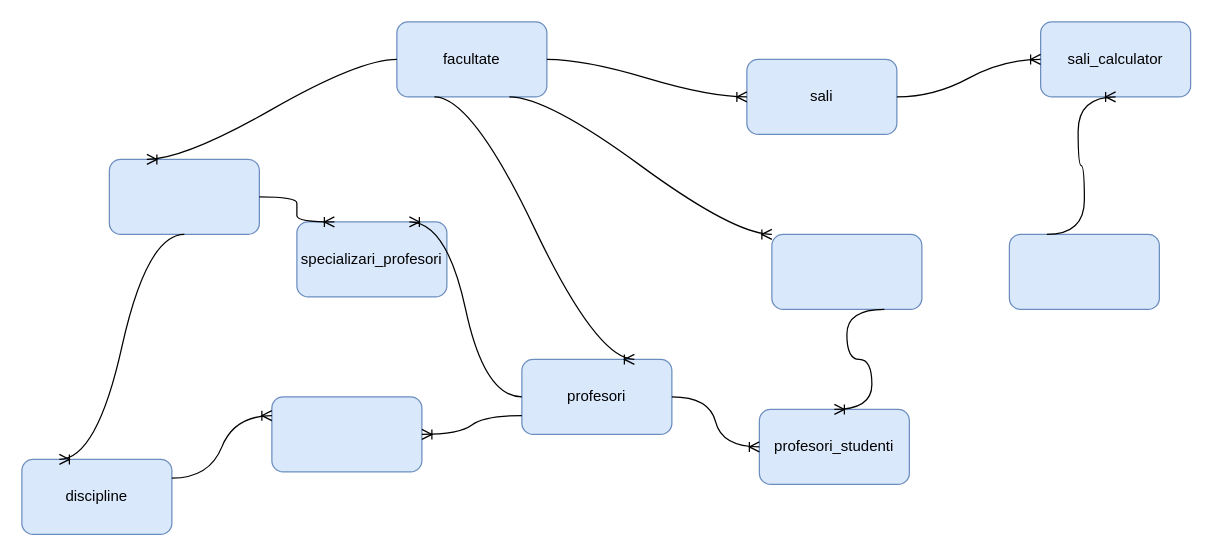
This 1213x556 diagram has some shape labels left out. The centre of each missing label's shape, as x and y in pixels:
"calculator" belongs at (1083,271).
"profesori_discipline" belongs at (346,434).
"specializari" belongs at (183,196).
"studenti" belongs at (846,271).
